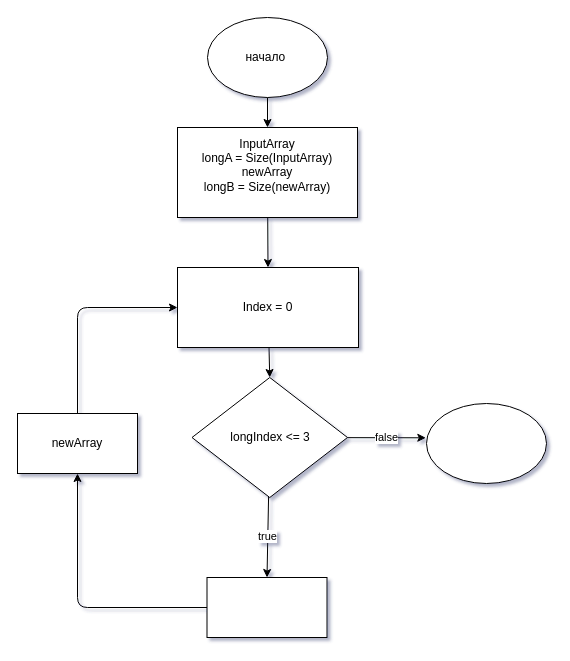
Some shapes in this 570 by 661 pixel diagram are drawn without their labels. Here are the shapes that lost their labels. From the top down, the box of each, then its label:
(426, 402, 546, 484): конец
(206, 576, 327, 638): longIndex ++
